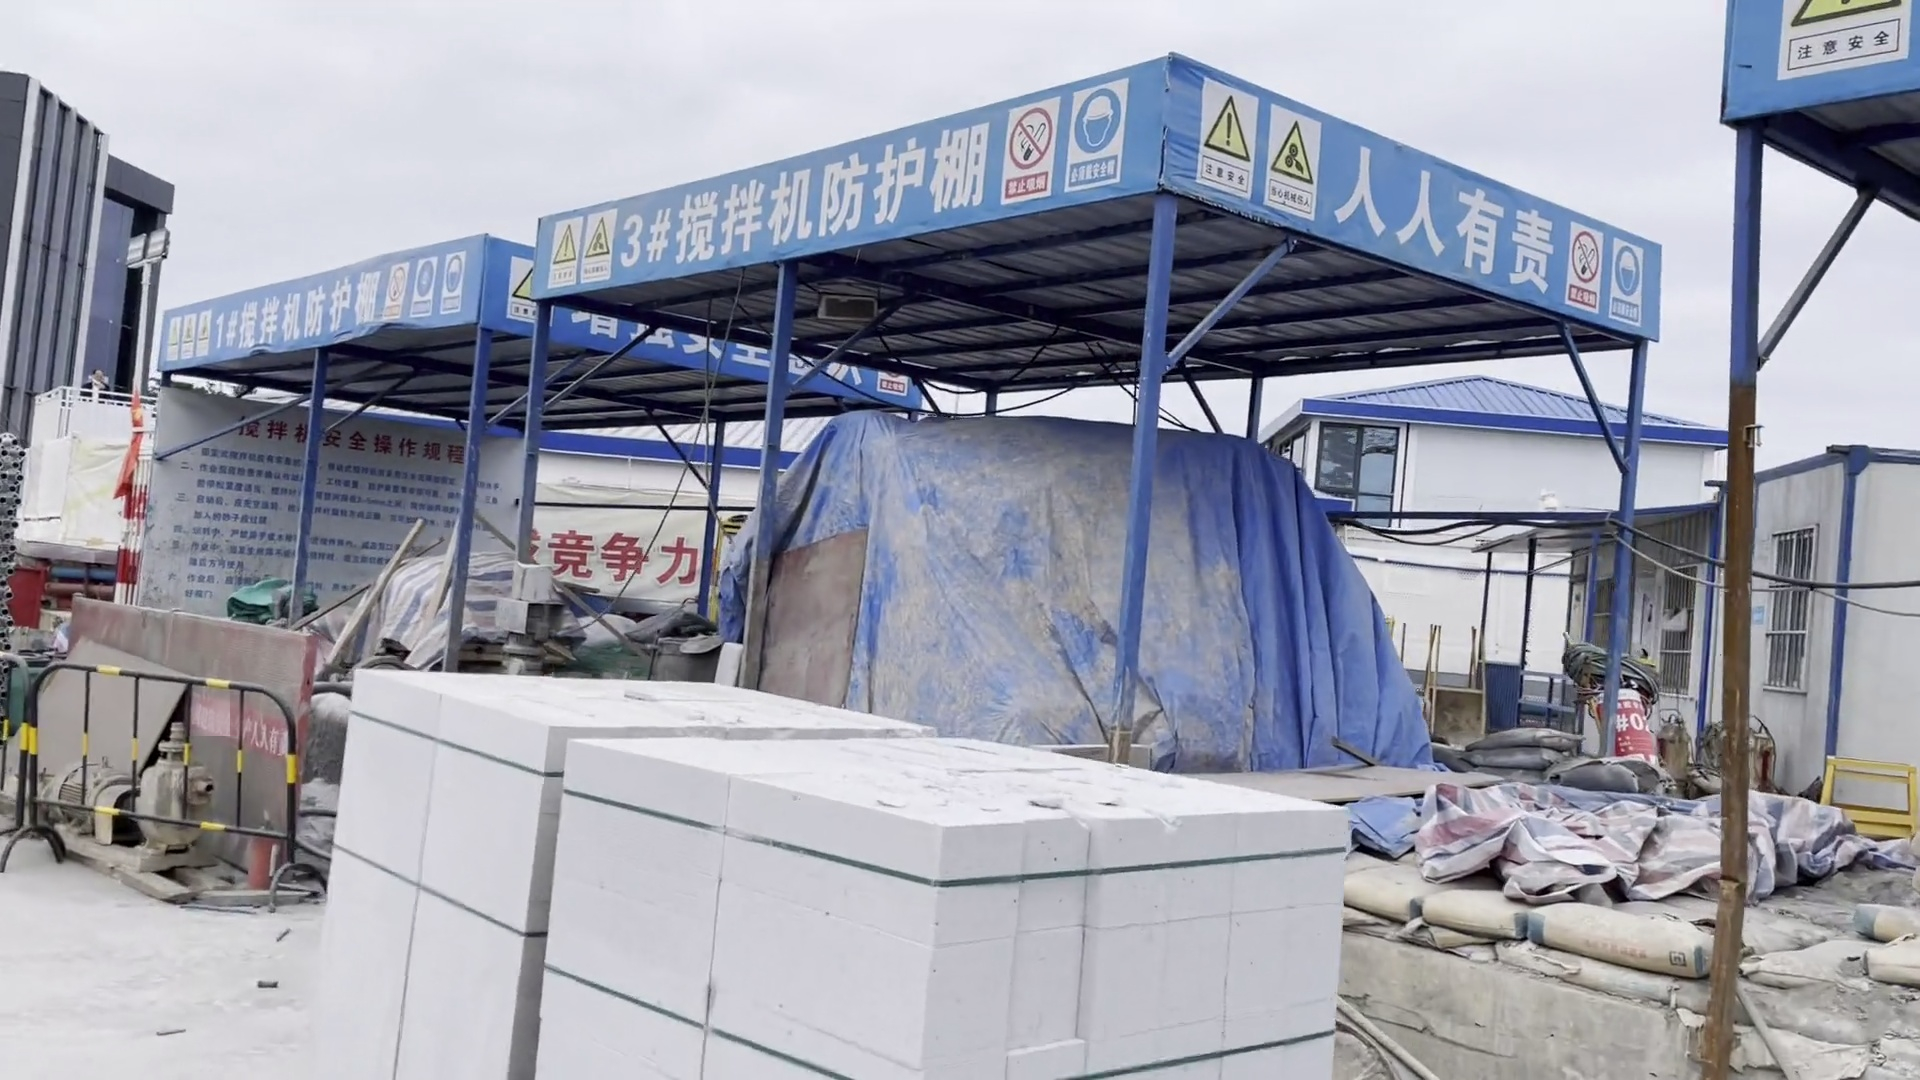brick: (314, 661, 1365, 1080)
scaffold: (1, 423, 28, 647)
slogan: (1332, 145, 1561, 293)
